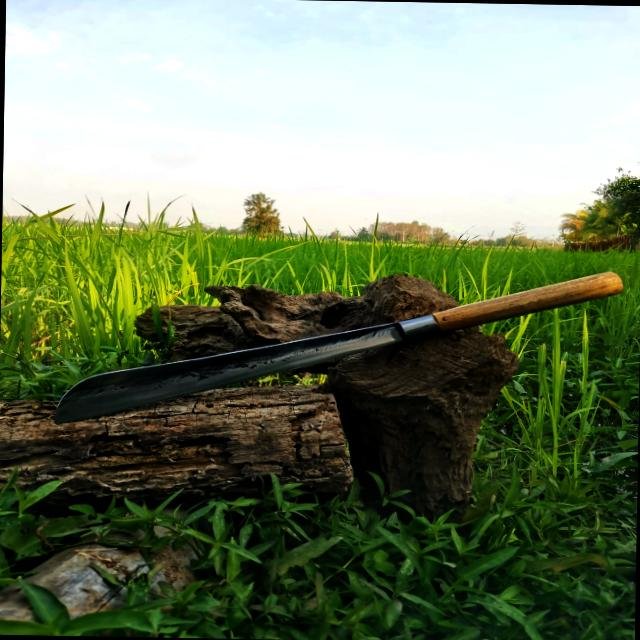eto: (48, 256, 630, 438)
